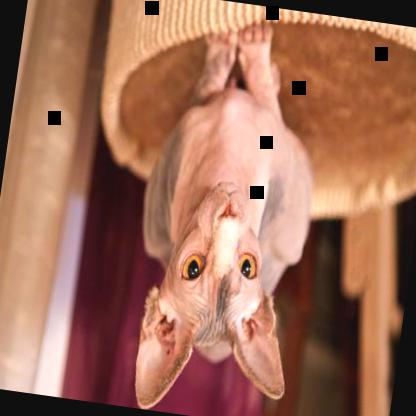cat: (114, 9, 339, 415)
